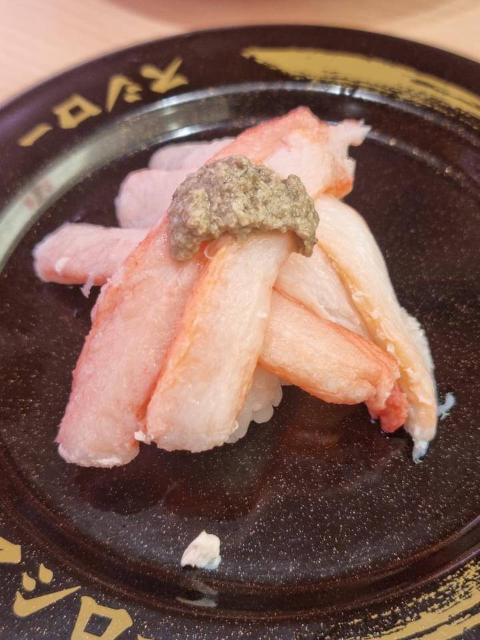janback: (0, 63, 480, 640)
